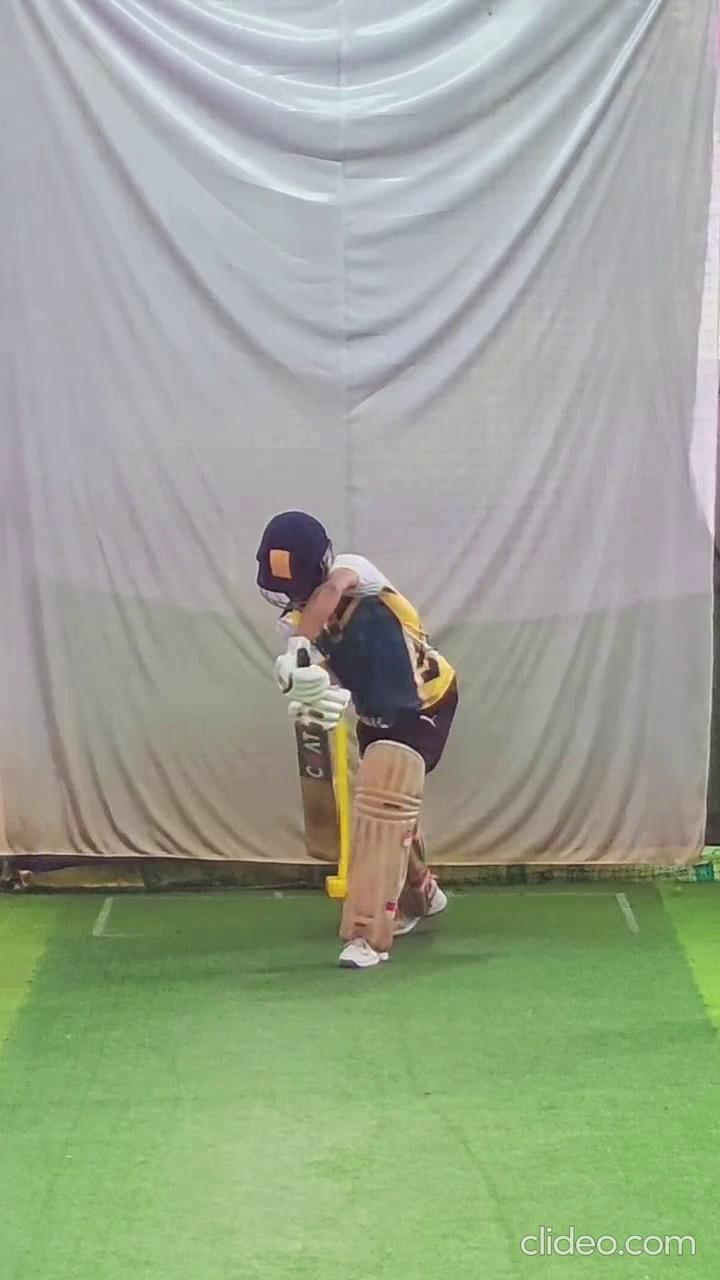bat: (292, 717, 344, 865)
